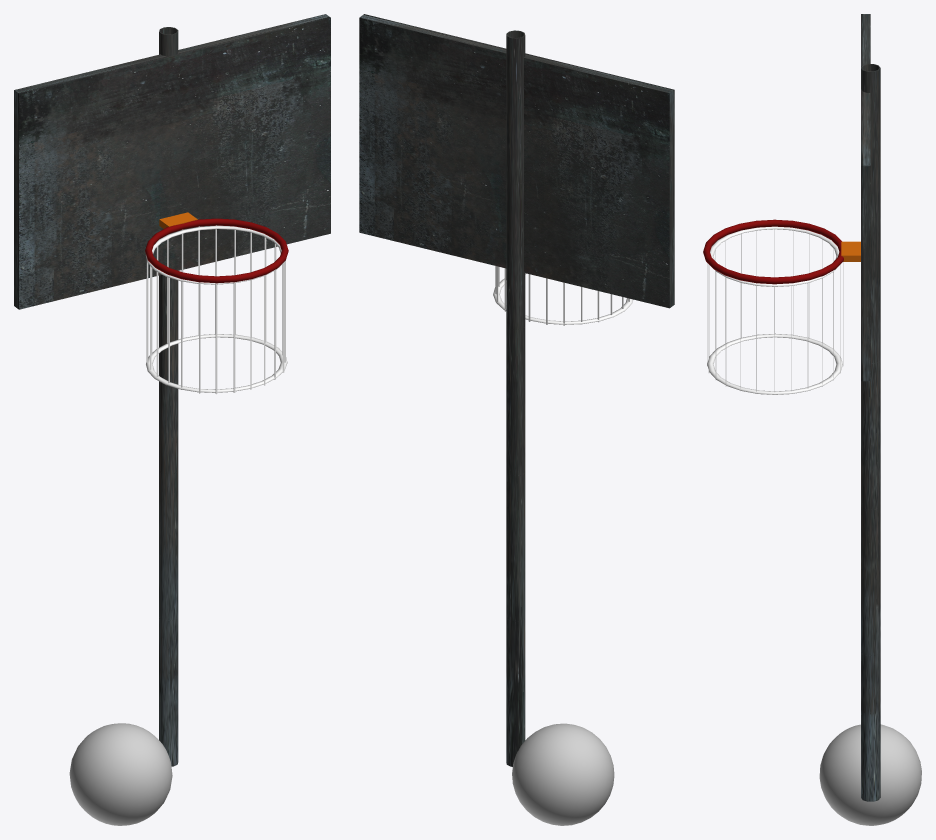
Rendered from basketball.obj.
3 renders of one model, left to right at view 1: azimuth 30°, elevation 25°; view 2: azimuth 150°, elevation 25°; view 3: azimuth 270°, elevation 25°, orthographic.
Parts seen in each view (by area): view 1: Box001, Tube001, Sphere001, Torus001, Torus003, Torus002; view 2: Box001, Tube001, Sphere001, Torus003; view 3: Tube001, Sphere001, Box001, Torus001, Torus003, Torus002.
Boxes of the visible parts, bbox=[...] form: Box001: bbox=[14, 14, 330, 309]; Tube001: bbox=[159, 27, 178, 766]; Sphere001: bbox=[69, 723, 172, 825]; Torus001: bbox=[145, 218, 288, 283]; Torus003: bbox=[146, 334, 287, 392]; Torus002: bbox=[146, 225, 284, 284]; Box001: bbox=[359, 14, 674, 308]; Tube001: bbox=[506, 30, 525, 766]; Sphere001: bbox=[512, 723, 614, 825]; Torus003: bbox=[493, 273, 632, 324]; Tube001: bbox=[861, 64, 880, 801]; Sphere001: bbox=[819, 724, 921, 825]; Box001: bbox=[861, 14, 870, 381]; Torus001: bbox=[703, 219, 843, 284]; Torus003: bbox=[707, 333, 842, 394]; Torus002: bbox=[710, 226, 839, 286].
Size of the model in its own units: 86.39 by 206 by 52.68.
